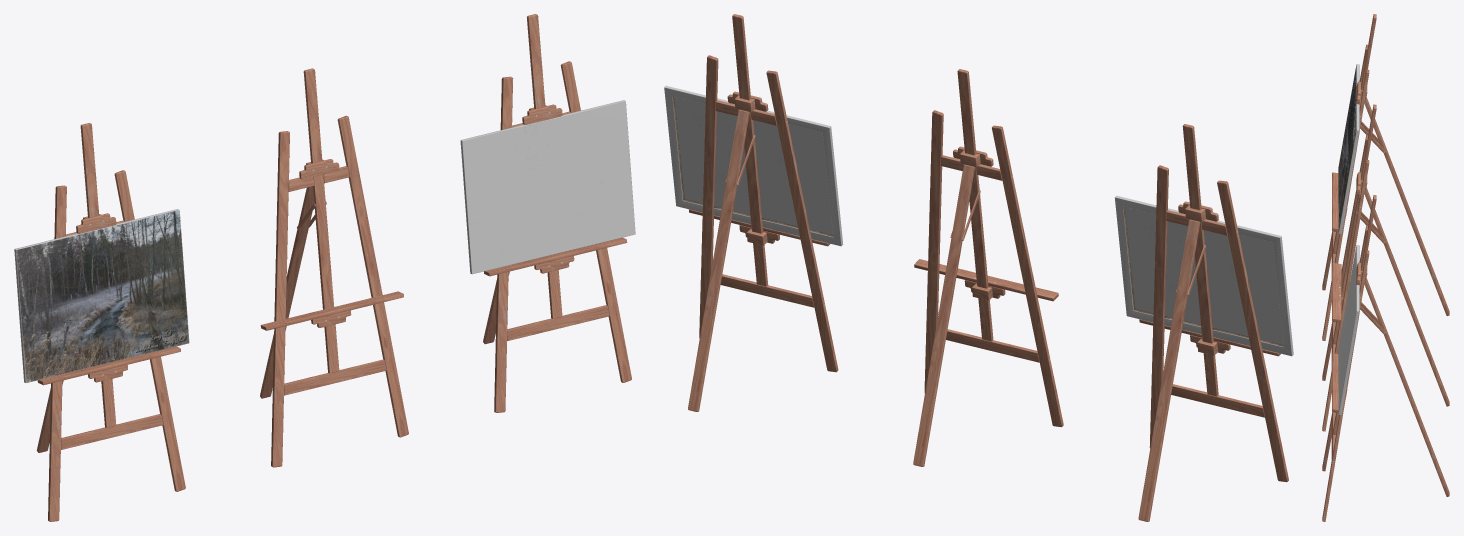
File: easel____easel_with_painting.glb
3 views of the same model, side by side, from view 1: azimuth 30°, elevation 25°; view 2: azimuth 150°, elevation 25°; view 3: azimuth 270°, elevation 25° (orthographic). The views are drawn at different scales.
Visible parts, largest first — view 1: Easel2, Easel3, Easel; view 2: Easel3, Easel2, Easel; view 3: Easel2, Easel3, Easel.
Part boxes in pixels (x1,y1,x2,y2): Easel2: [460, 14, 635, 412]; Easel3: [14, 123, 189, 521]; Easel: [260, 68, 408, 467]; Easel3: [1114, 124, 1293, 521]; Easel2: [664, 14, 843, 411]; Easel: [913, 69, 1063, 466]; Easel2: [1322, 195, 1449, 521]; Easel3: [1322, 14, 1449, 340]; Easel: [1322, 104, 1449, 431].
Size of the model in its own units: 3.56 by 2 by 0.7746.
Materials: 3 (3 with a texture image).
